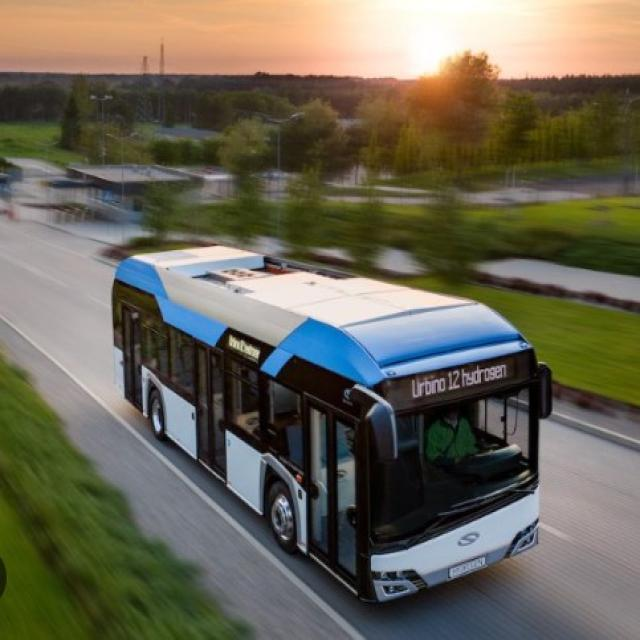bus: (110, 241, 544, 608)
